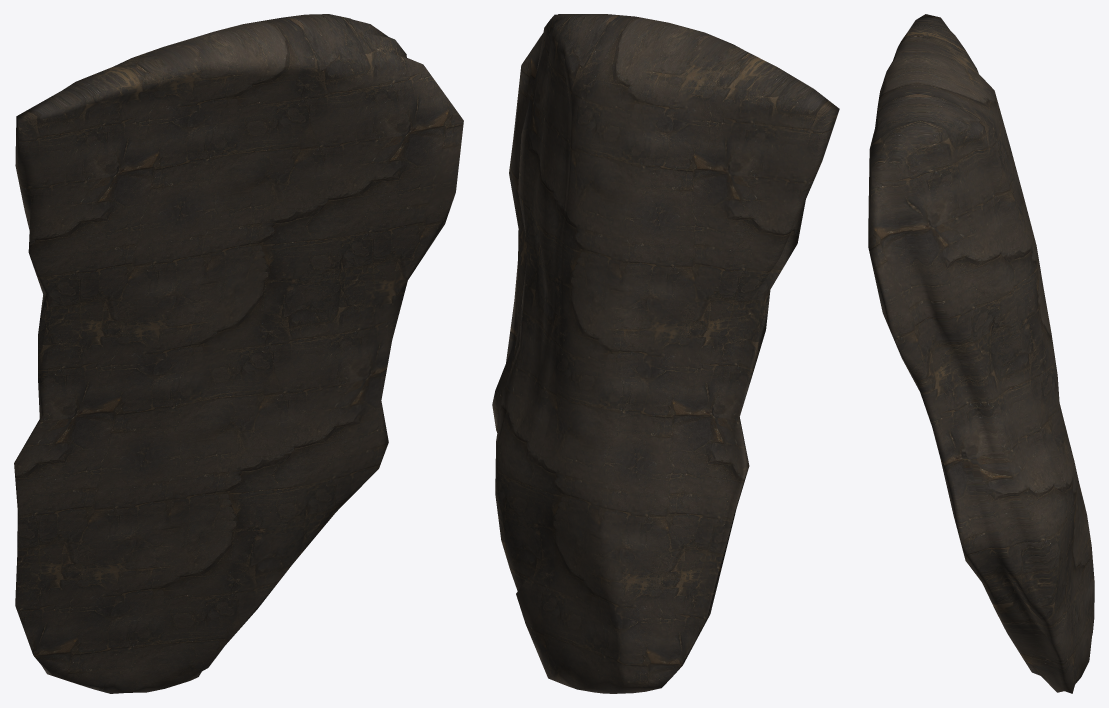
File: cliff_slab_a_lod1.gltf
The picture shows the model from 3 angles, left to right: view 1: azimuth 30°, elevation 25°; view 2: azimuth 150°, elevation 25°; view 3: azimuth 270°, elevation 25°; orthographic projection. The views are drawn at different scales.
Parts seen in each view (by area): view 1: cliff_slab_a_LOD1; view 2: cliff_slab_a_LOD1; view 3: cliff_slab_a_LOD1.
Boxes of the visible parts, x1,y1,x2,y2 form: cliff_slab_a_LOD1: [14, 14, 463, 693]; cliff_slab_a_LOD1: [492, 14, 839, 693]; cliff_slab_a_LOD1: [868, 14, 1094, 693].
Size of the model in its own units: 13.15 by 22 by 7.38.
Materials: 1 (1 with a texture image).
